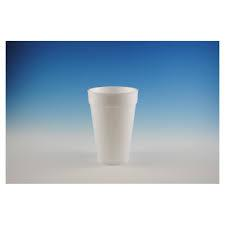Plastic cup: (79, 80, 156, 167)
